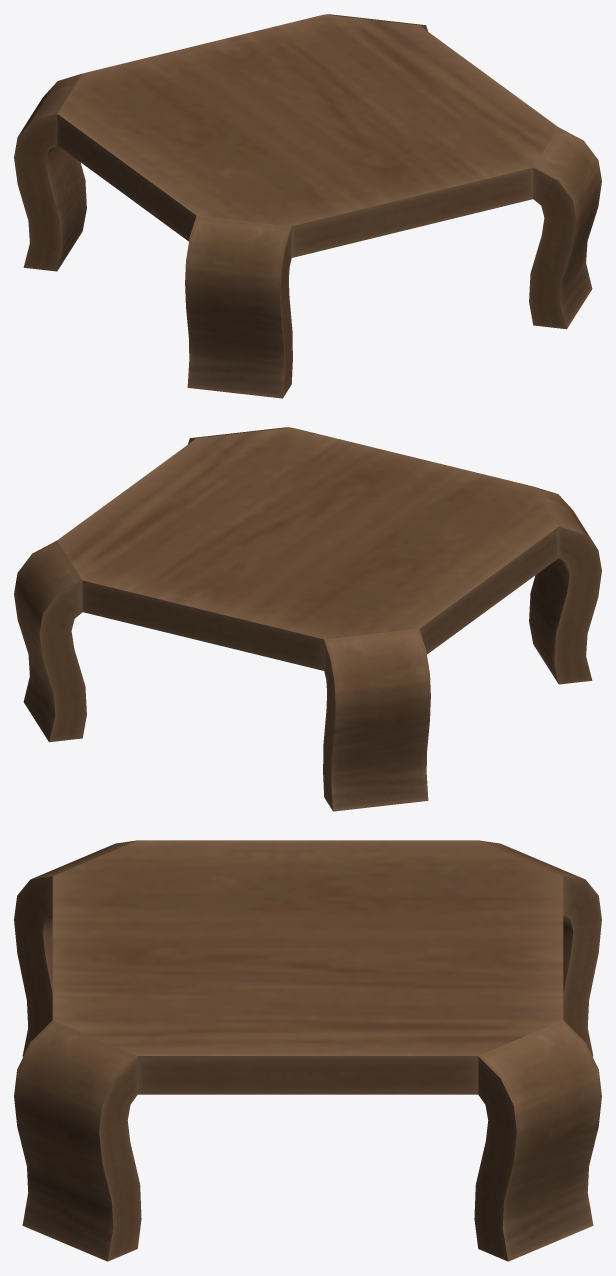
File: tukueC01.fbx
3 views of the same model, one above another, from view 1: azimuth 30°, elevation 25°; view 2: azimuth 150°, elevation 25°; view 3: azimuth 270°, elevation 25° (orthographic). The views are drawn at different scales.
Visible parts, largest first — view 1: tukueC01; view 2: tukueC01; view 3: tukueC01.
Part boxes in pixels (x1,y1,x2,y2): tukueC01: [14, 14, 601, 398]; tukueC01: [14, 427, 601, 811]; tukueC01: [14, 840, 601, 1261].
Size of the model in its own units: 207 by 75 by 207.
